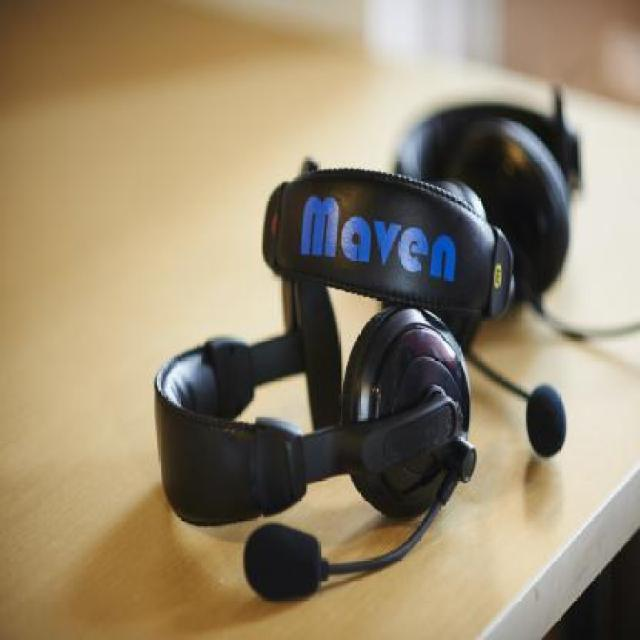earphone: (165, 170, 575, 612)
